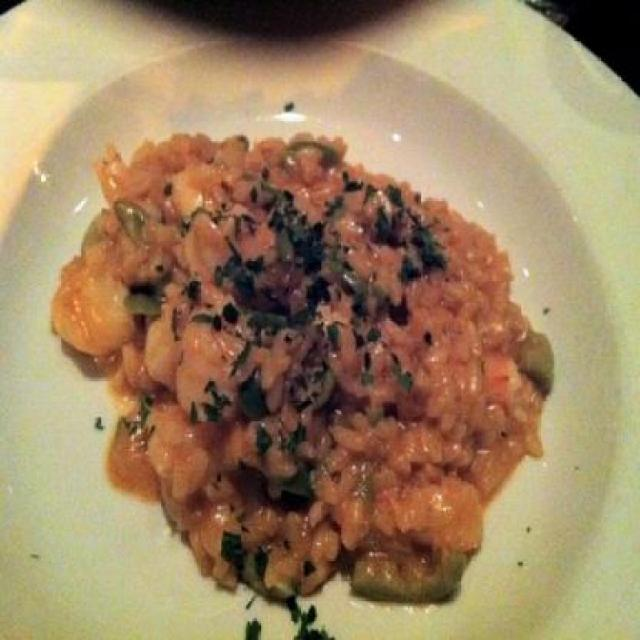Risotto: (62, 116, 546, 618)
